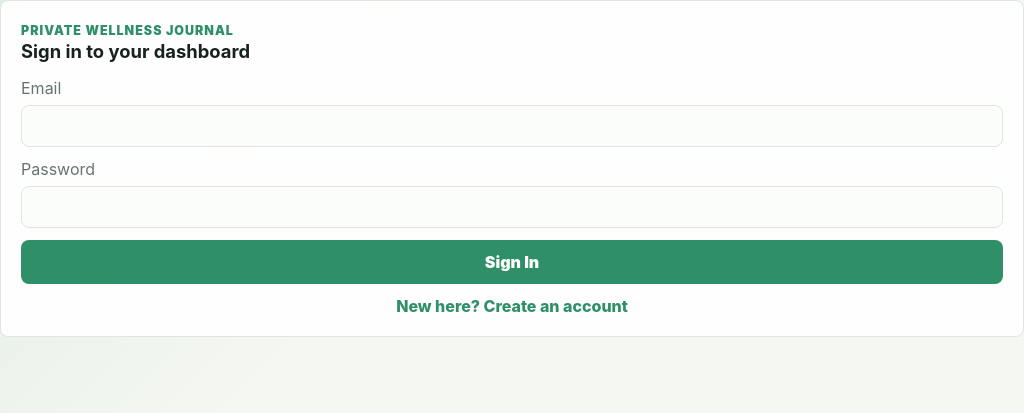
it: AuthCard › shows an API authentication error
Type "dylan@example.com" into the field labelled "Email". click: x=512, y=126
box: [21,105,1003,147]
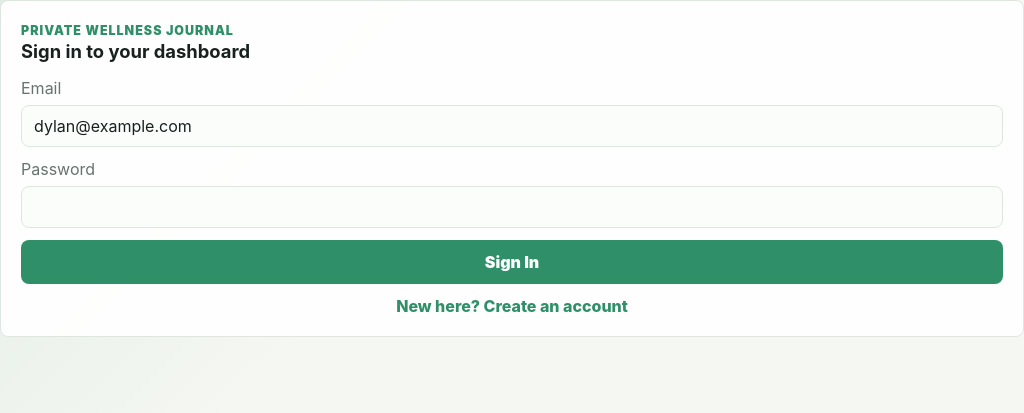
Type "incorrect-password" into the password field labelled "Password". click: x=512, y=207
box: [21,186,1003,228]
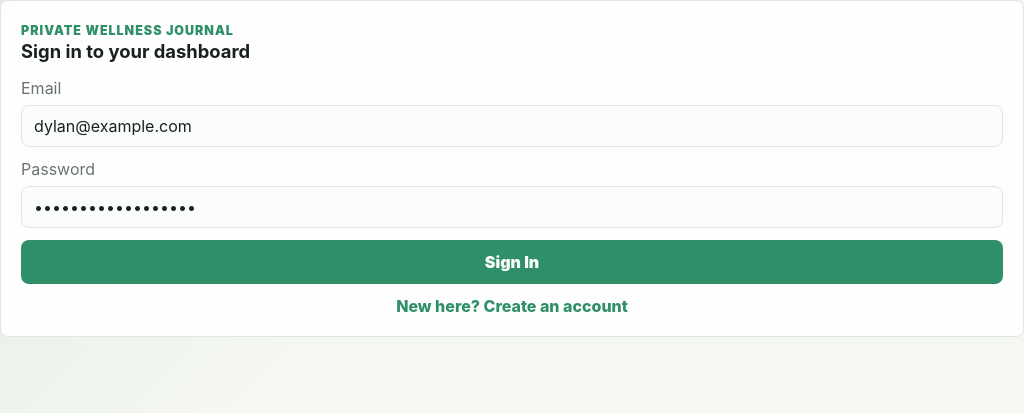
Submit the form "Sign In", box [21,78,1003,316]
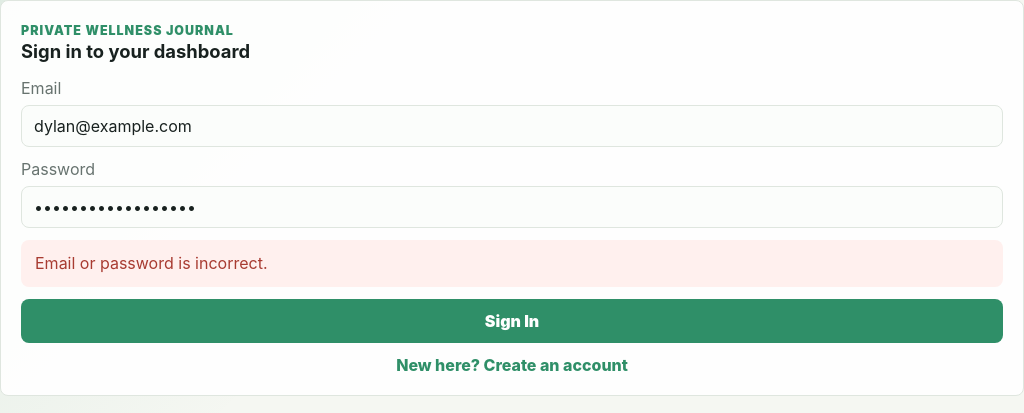
Expected: the message reads "Email or password is incorrect.", [35,253,268,273]
